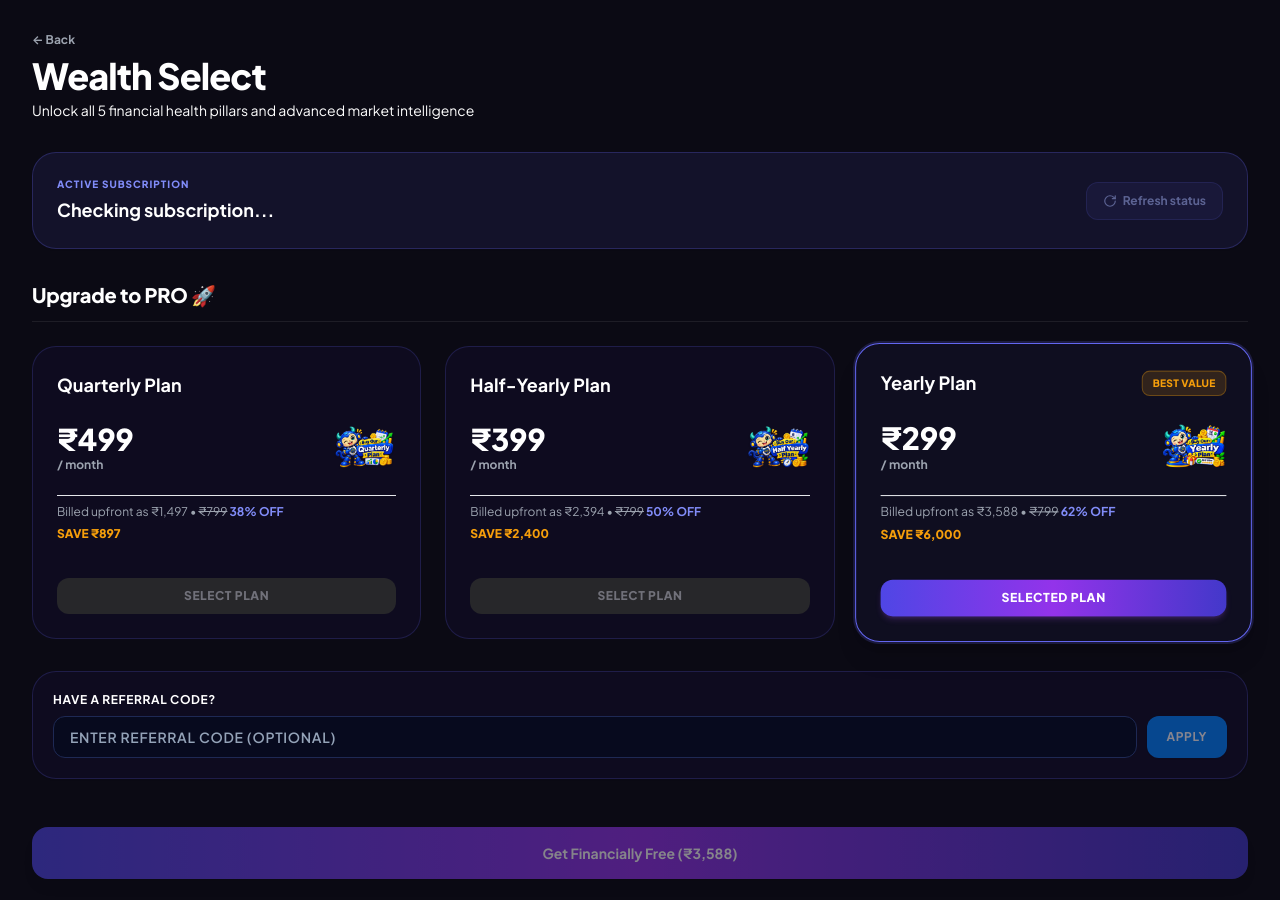
Test: Free Activation Path Tests › SubscriptionPage UI for ₹0 price › changes button label to "Activate PRO for free" and displays note when final price is ₹0
Click the element with test id "sub-plan-card-3" at (227, 492), box x1=32 y1=346 x2=421 y2=639
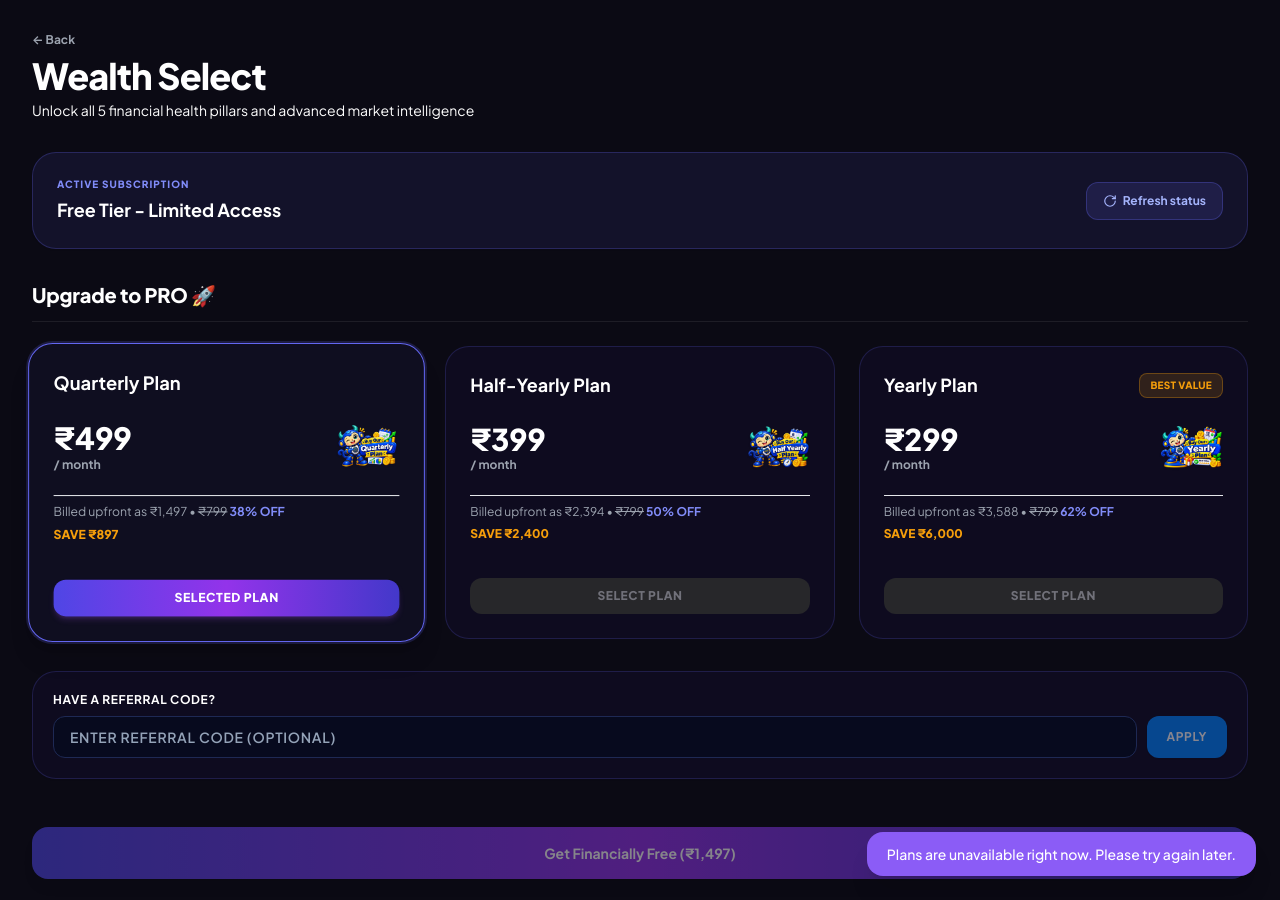
Check: the button with test id "buy-plan-btn" shows "Get Financially Free", box x1=32 y1=827 x2=1248 y2=879
Type "FINFREE" into the field with test id "referral-code-input" at (595, 737), box x1=53 y1=716 x2=1136 y2=758
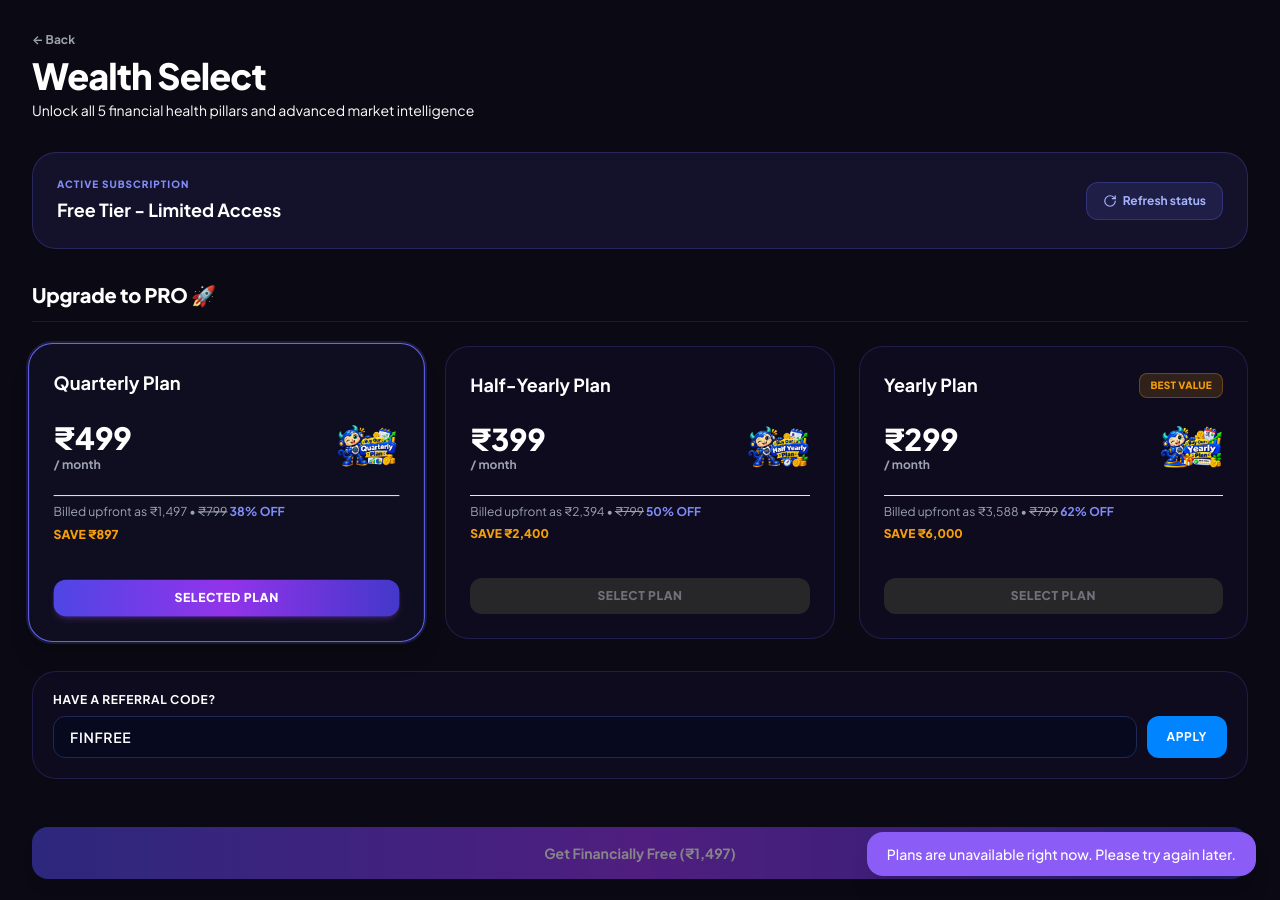
Click the button with test id "apply-referral-btn" at (1187, 737), box x1=1146 y1=716 x2=1227 y2=758
(page scrolled)
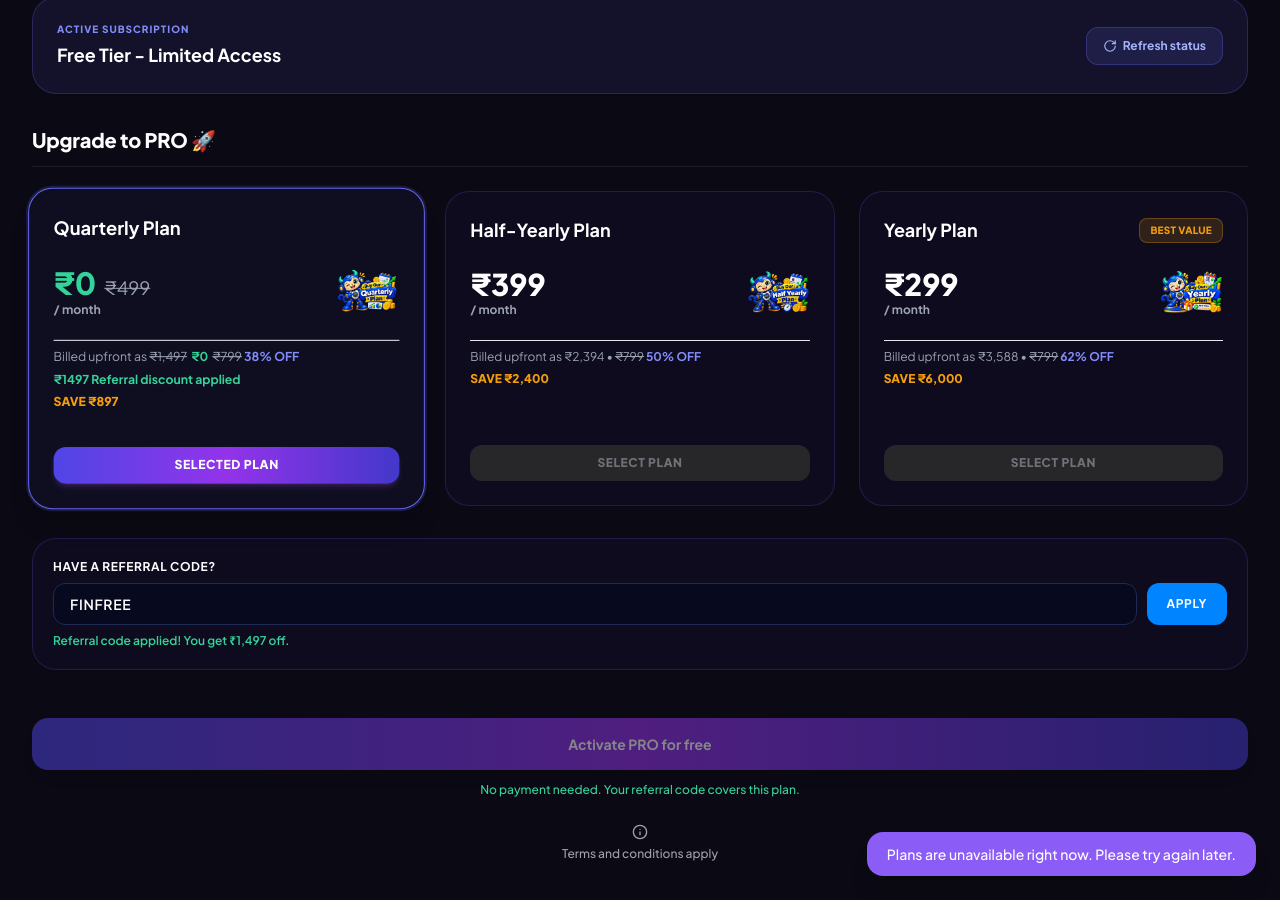
Check: the button with test id "buy-plan-btn" reads "Activate PRO for free", box x1=32 y1=718 x2=1248 y2=770
Check: the text with test id "free-activation-note" reads "No payment needed. Your referral code covers this plan.", box x1=480 y1=782 x2=800 y2=797
